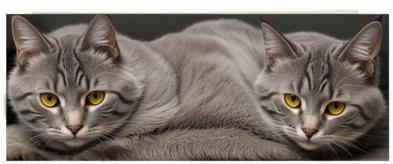cat: (6, 14, 388, 160)
